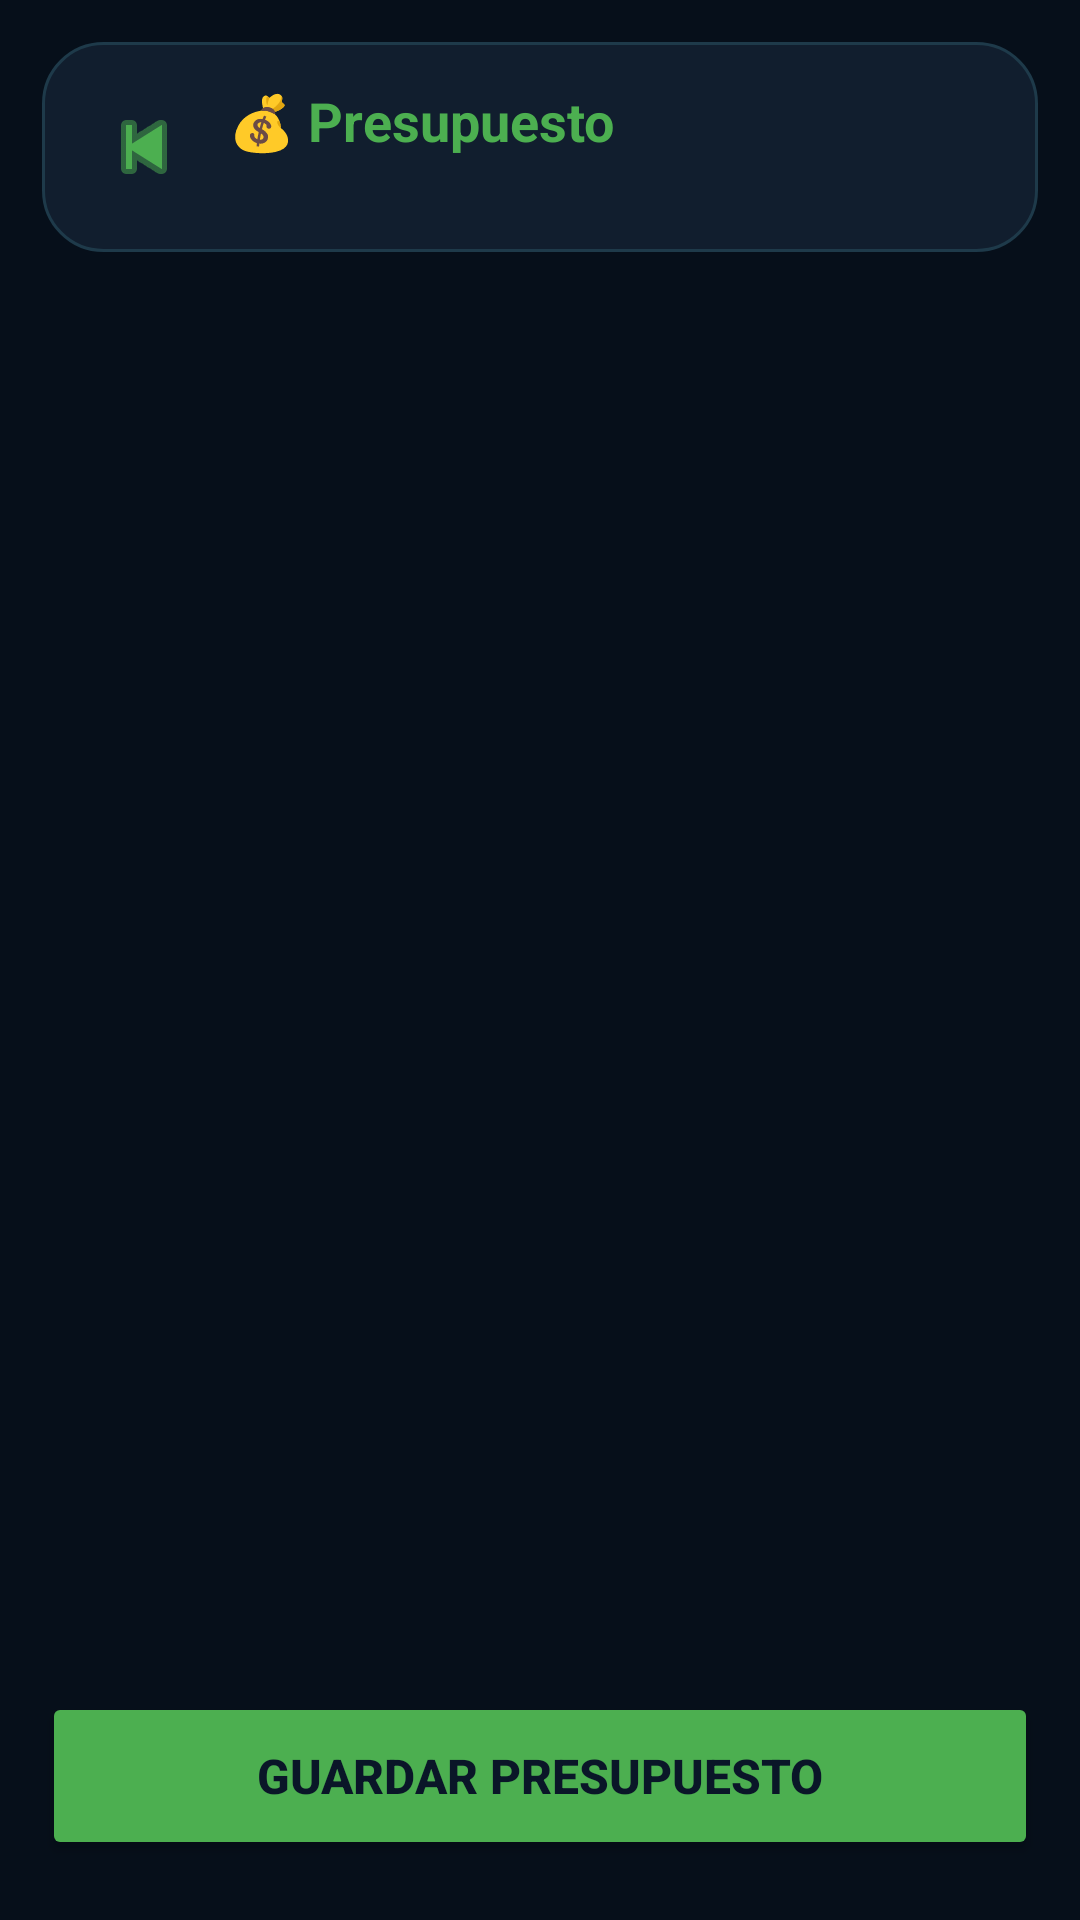

Icon bounding boxes for this 1080px x 1920px phone screenshot, format (x1, y1, x2, y2):
previous: (121, 120, 167, 174)
